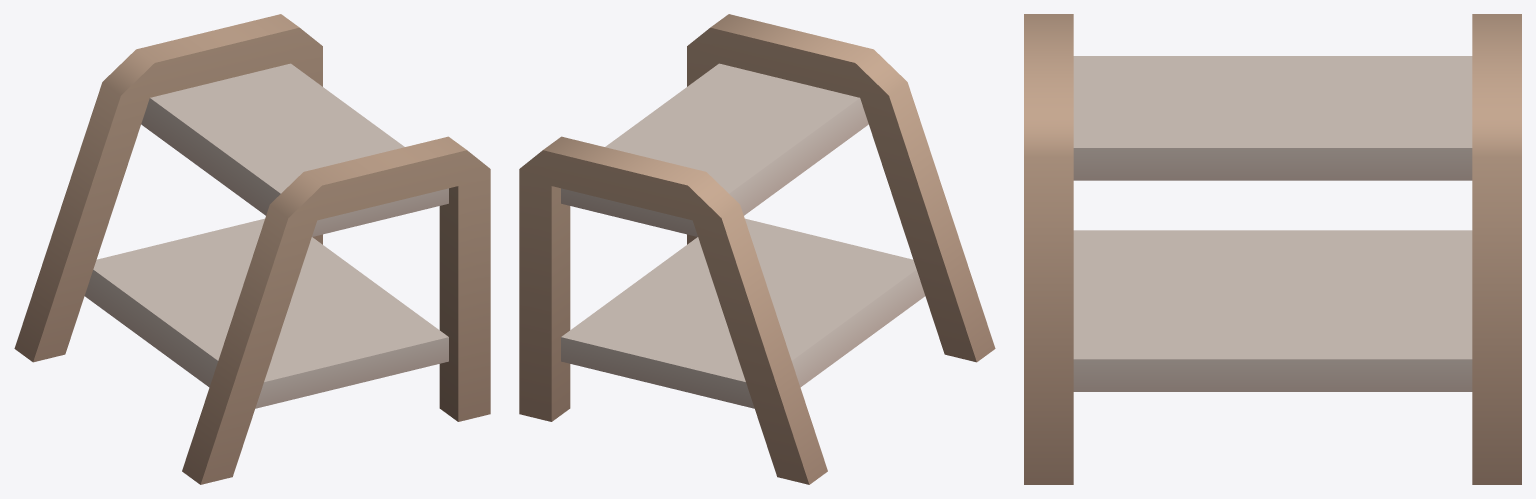
Rendered from cabinet-small-slant.glb.
3 views of the same model, side by side, from view 1: azimuth 30°, elevation 25°; view 2: azimuth 150°, elevation 25°; view 3: azimuth 270°, elevation 25° (orthographic). The views are drawn at different scales.
Visible parts, largest first — view 1: cabinet-small-slant; view 2: cabinet-small-slant; view 3: cabinet-small-slant.
Boxes of the visible parts, x1,y1,x2,y2 form: cabinet-small-slant: (14, 14, 490, 484); cabinet-small-slant: (519, 14, 995, 484); cabinet-small-slant: (1024, 14, 1521, 484).
Bounding box in the file's own units: 0.621 × 0.552 × 0.69.
